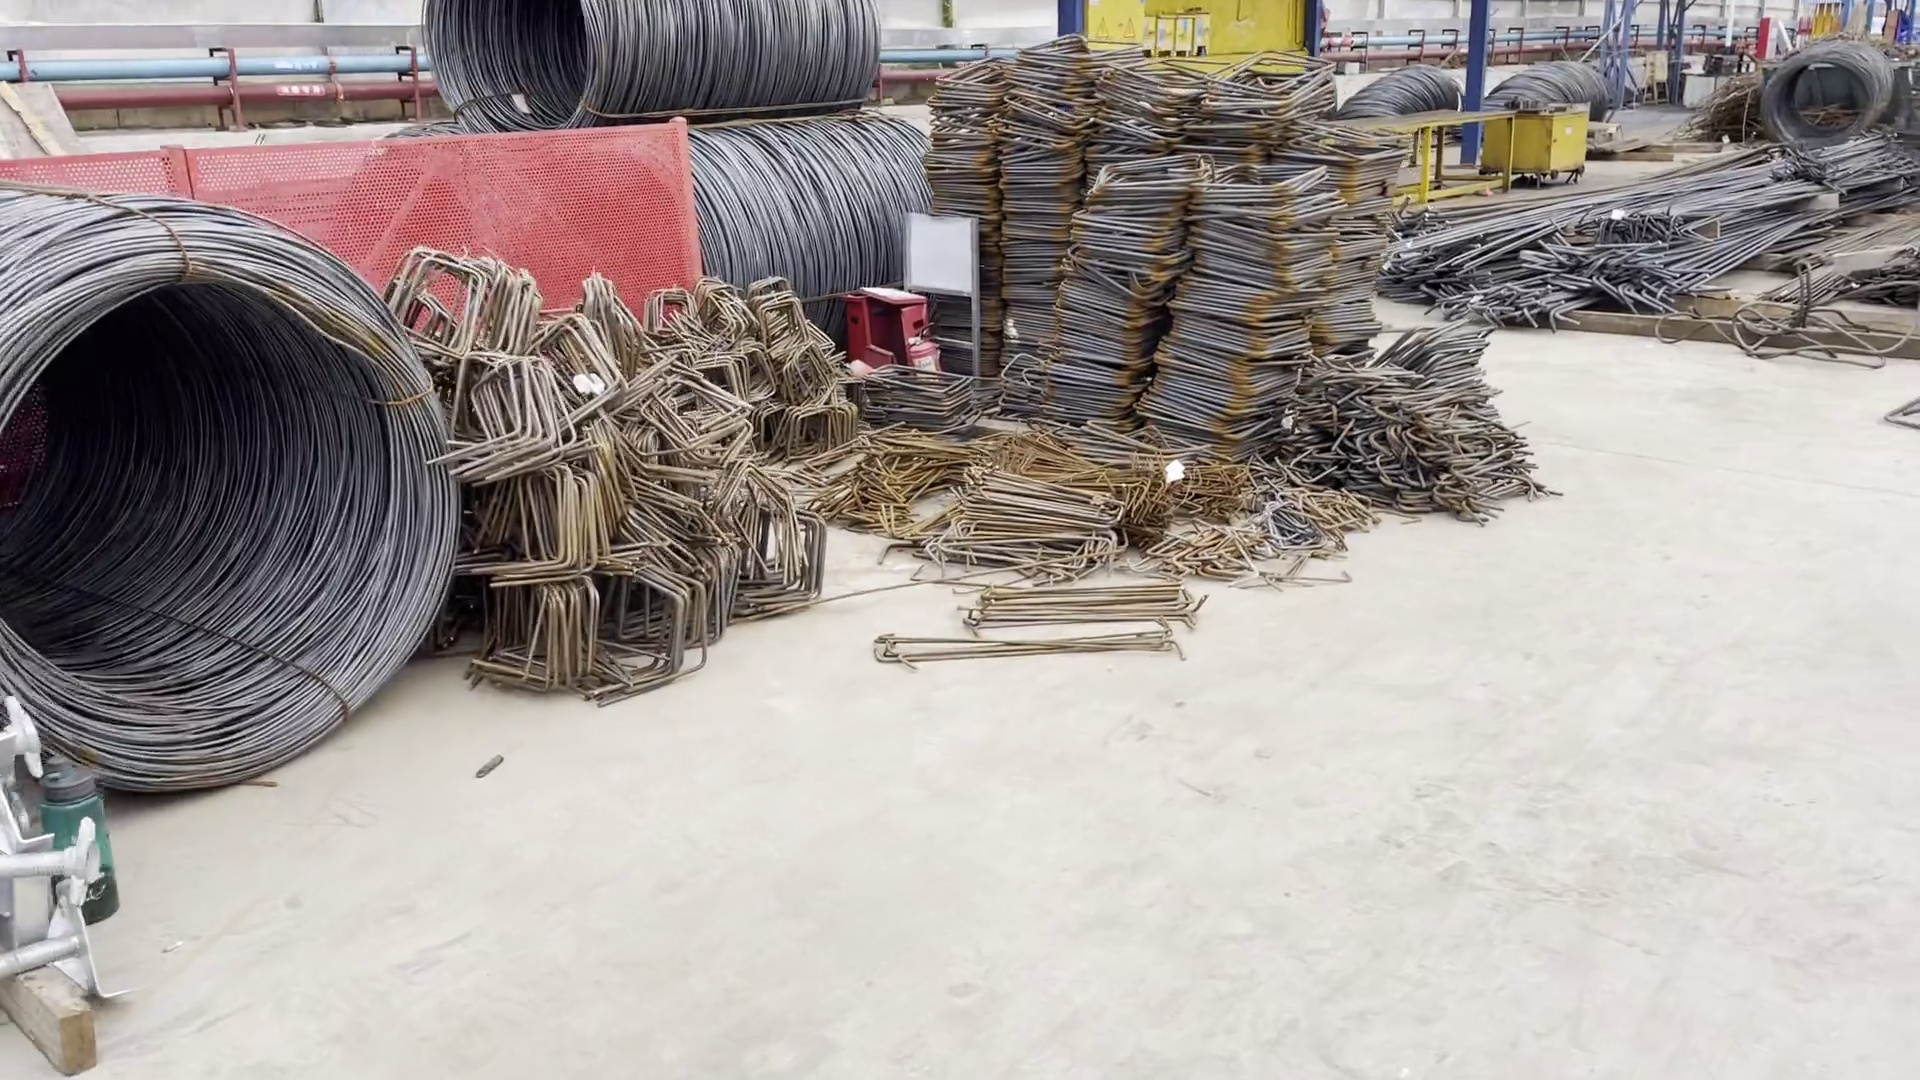ebox: (1084, 1, 1160, 54)
rebar: (1404, 144, 1920, 334)
